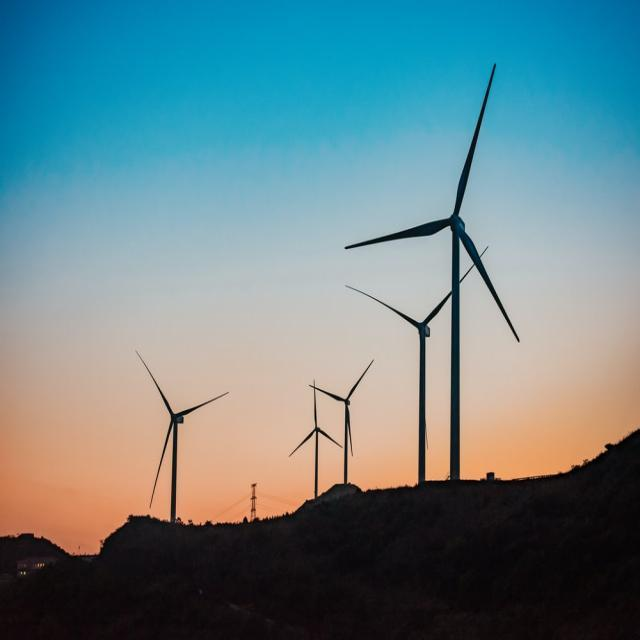solid-blade: (458, 221, 520, 341), (452, 65, 496, 214), (345, 219, 451, 248)
wind-turbine: (346, 65, 520, 479), (137, 351, 228, 522)
